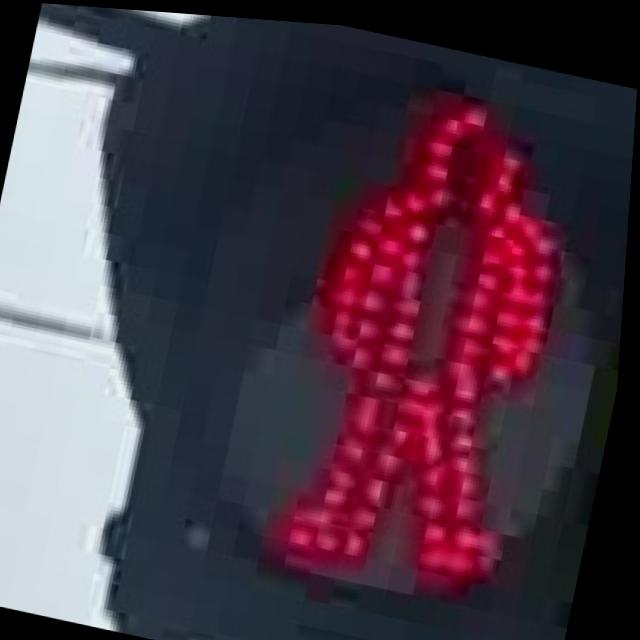red_light: (232, 34, 630, 627)
